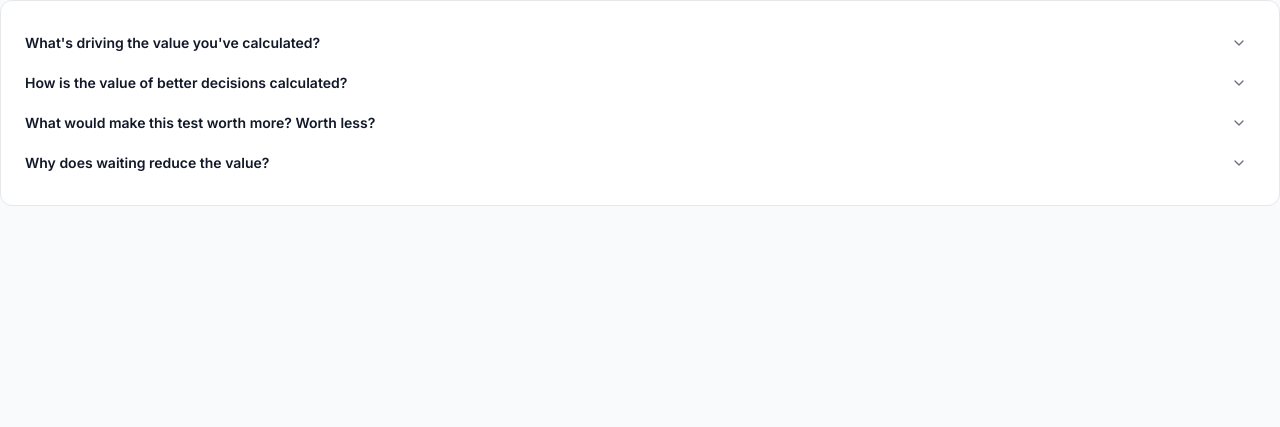
Test: FAQAccordion › Test 9: Accordion 2 answer contains testValue formatted as currency
The image size is (1280, 427).
Click the button "How is the value of better decisions calculated?" at (186, 82), box x1=21 y1=65 x2=1251 y2=101
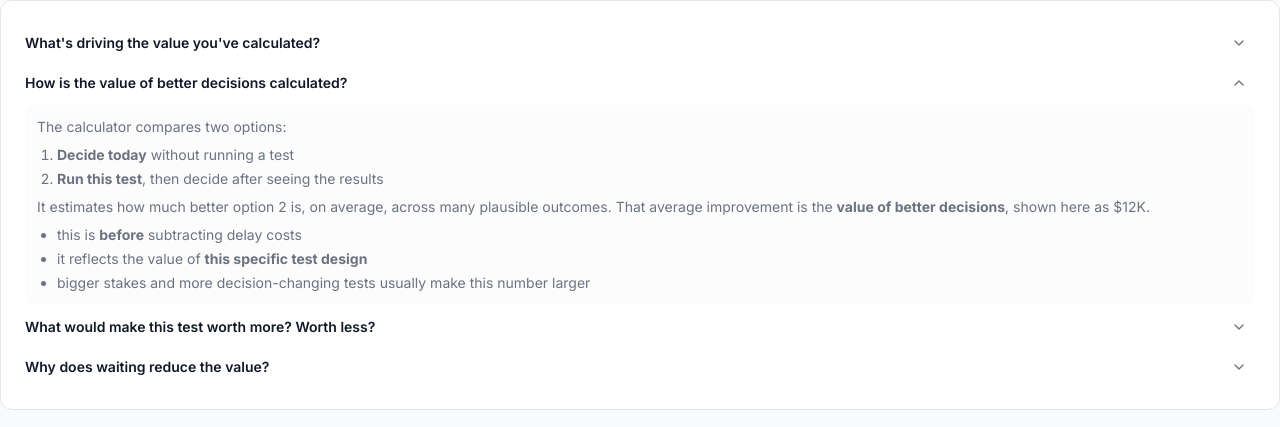
Check: the text "$12K" is shown, box x1=1113 y1=198 x2=1146 y2=215
